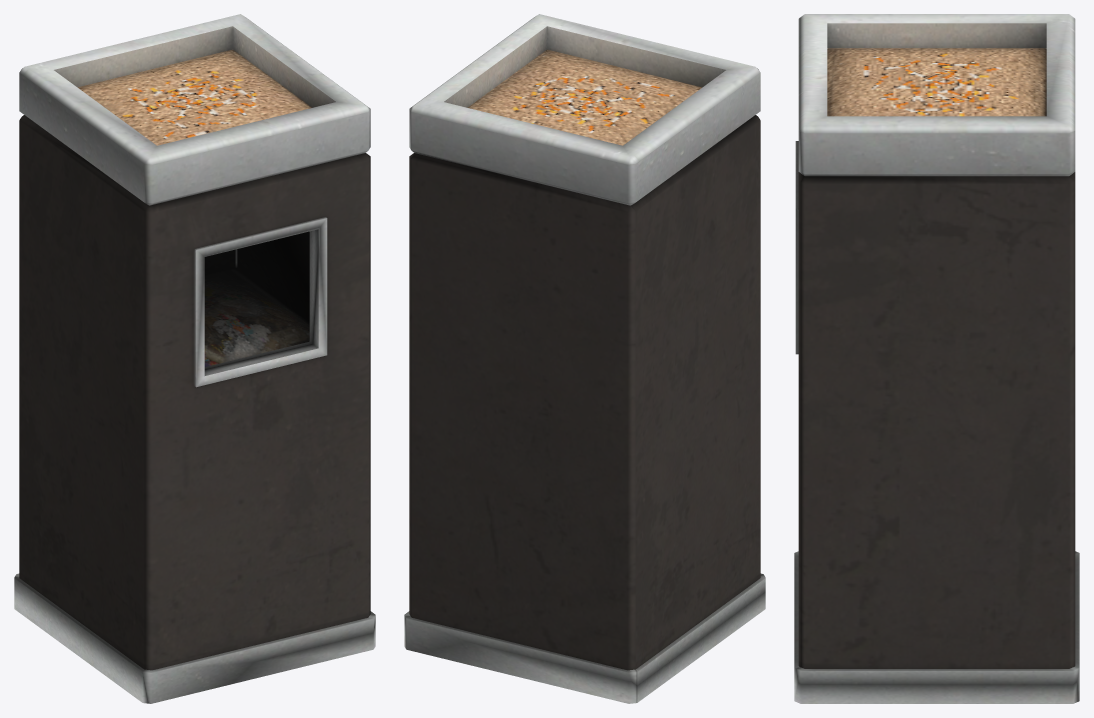
File: aschenbecher_0001a.fbx
3 renders of one model, left to right at view 1: azimuth 30°, elevation 25°; view 2: azimuth 150°, elevation 25°; view 3: azimuth 270°, elevation 25°, orthographic. The views are drawn at different scales.
Parts seen in each view (by area): view 1: Mesh; view 2: Mesh; view 3: Mesh.
Part boxes in pixels (x1,y1,x2,y2): Mesh: (14,14,375,703); Mesh: (404,14,765,703); Mesh: (794,14,1079,703).
Size of the model in its own units: 38.18 by 84.73 by 38.18.
